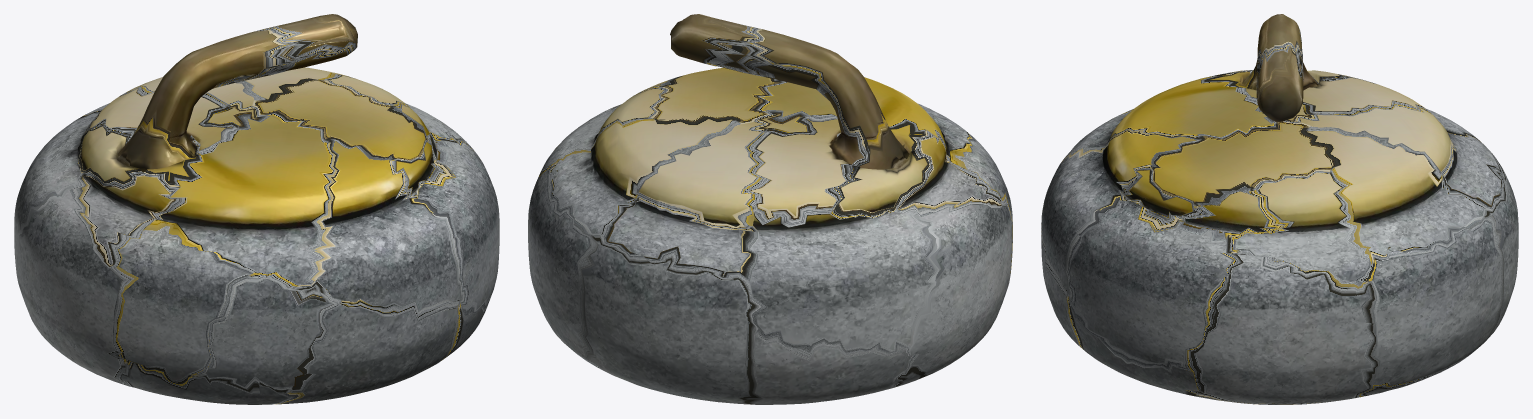
The model's file is curling-stone.glb.
3 renders of one model, left to right at view 1: azimuth 30°, elevation 25°; view 2: azimuth 150°, elevation 25°; view 3: azimuth 270°, elevation 25°, orthographic.
Visible parts, largest first — view 1: tripo_node_308cf1fc-5f23-4633-9110-7ab5a5328d72; view 2: tripo_node_308cf1fc-5f23-4633-9110-7ab5a5328d72; view 3: tripo_node_308cf1fc-5f23-4633-9110-7ab5a5328d72.
Part boxes in pixels (x1,y1,x2,y2): tripo_node_308cf1fc-5f23-4633-9110-7ab5a5328d72: [14, 14, 499, 404]; tripo_node_308cf1fc-5f23-4633-9110-7ab5a5328d72: [528, 14, 1012, 404]; tripo_node_308cf1fc-5f23-4633-9110-7ab5a5328d72: [1041, 14, 1518, 404].
Size of the model in its own units: 1 by 0.6734 by 0.999.
Materials: 1 (1 with a texture image).
